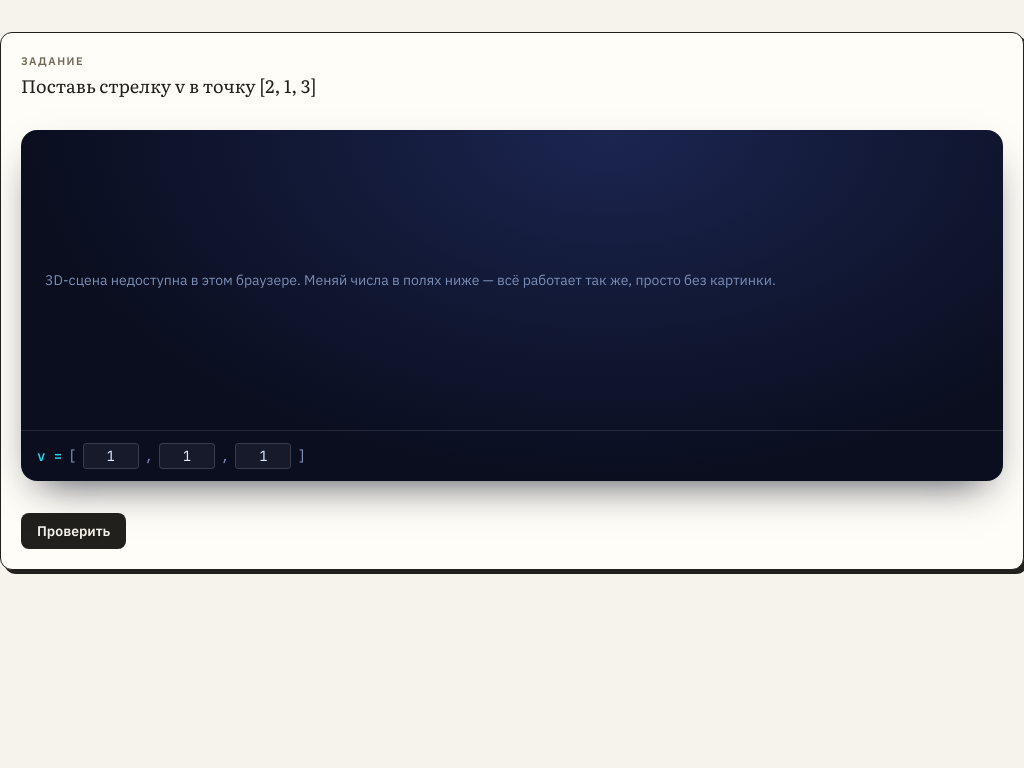
Test: VectorTask without WebGL › explains what is off after a wrong try
Click the button "Проверить".
click(74, 531)  # box [21,513,126,549]
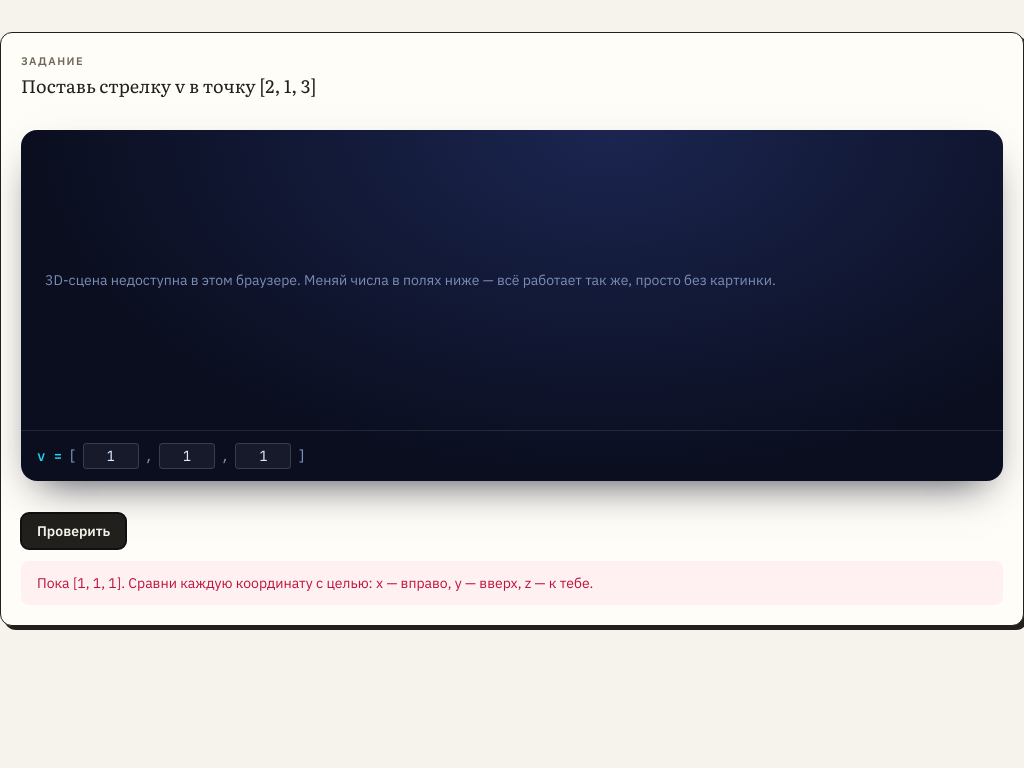
Expected: the text "Пока [1, 1, 1]" is shown, [21,561,1003,605]
